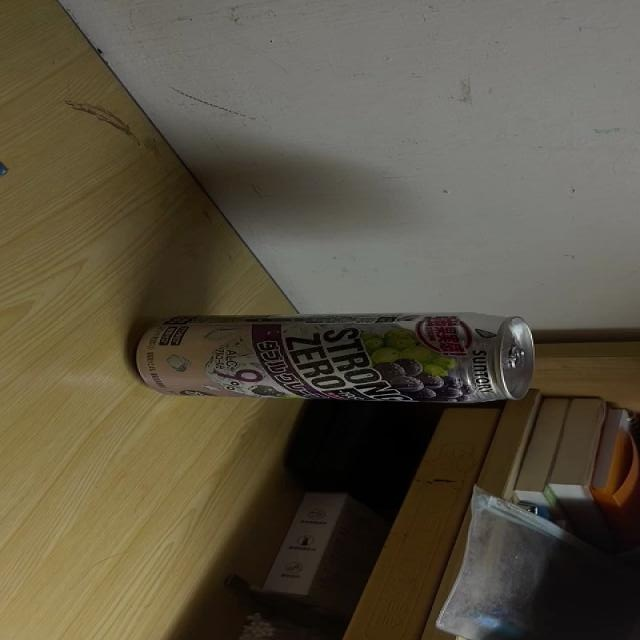Liquor: (134, 312, 536, 403)
